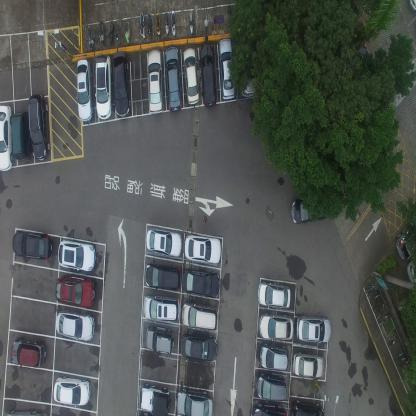car: (28, 94, 51, 162), (55, 273, 95, 308), (57, 239, 96, 272), (112, 51, 131, 118), (198, 42, 217, 108), (182, 268, 221, 300), (290, 194, 330, 225), (238, 37, 258, 98), (52, 376, 91, 407), (55, 311, 95, 341), (185, 233, 222, 265), (175, 386, 214, 416), (76, 57, 94, 122), (12, 230, 52, 259), (144, 262, 182, 292), (142, 294, 180, 324), (165, 45, 182, 111), (146, 48, 163, 114), (218, 38, 236, 100), (11, 337, 46, 368), (181, 332, 217, 362), (296, 315, 332, 345), (146, 227, 182, 257), (394, 211, 416, 259), (140, 381, 171, 415), (10, 110, 31, 160), (182, 301, 218, 330), (182, 45, 199, 105), (95, 52, 110, 120), (258, 313, 293, 342), (257, 282, 291, 310), (256, 372, 286, 402), (293, 352, 323, 381), (146, 324, 174, 354), (0, 103, 12, 173), (259, 344, 288, 371), (290, 398, 324, 416), (251, 402, 287, 415), (404, 260, 416, 285)
